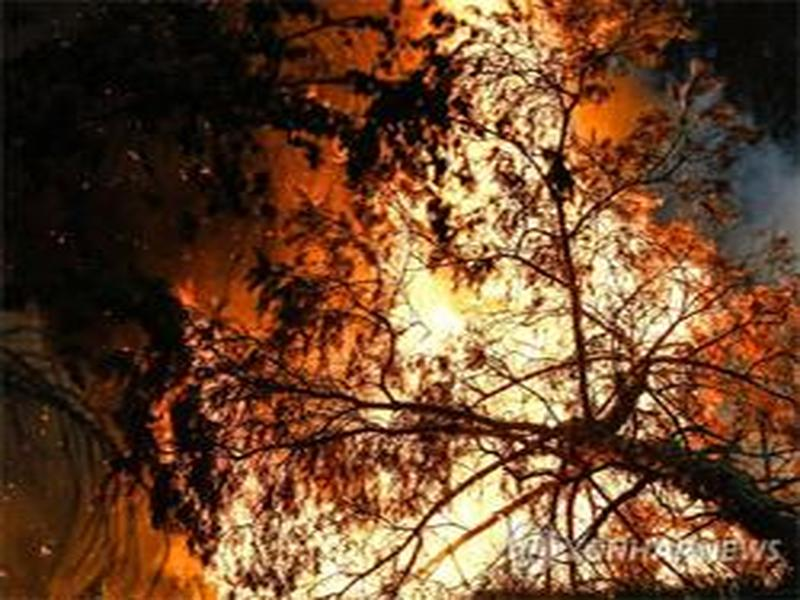FIRE: (115, 141, 710, 600)
